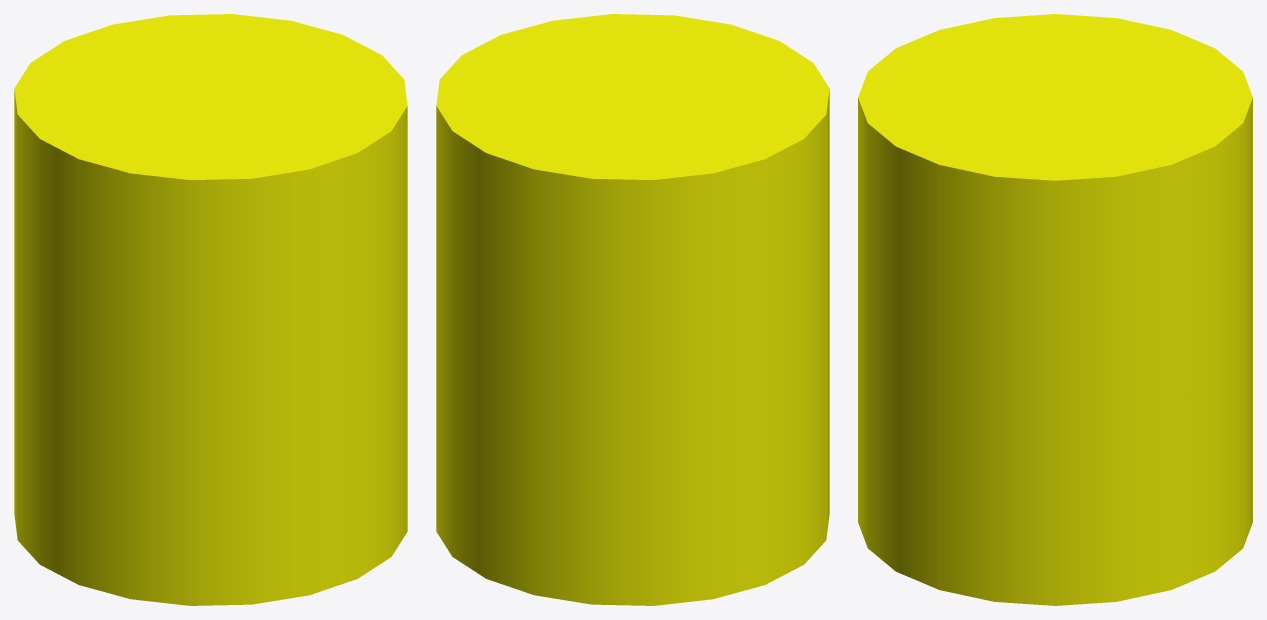
Rendered from Wood2.obj.
3 views of the same model, side by side, from view 1: azimuth 30°, elevation 25°; view 2: azimuth 150°, elevation 25°; view 3: azimuth 270°, elevation 25° (orthographic).
Parts seen in each view (by area): view 1: Wood2; view 2: Wood2; view 3: Wood2.
Part boxes in pixels (x1,y1,x2,y2): Wood2: (14,14,407,605); Wood2: (436,14,829,605); Wood2: (858,14,1252,605).
Size of the model in its own units: 2.27 by 2.7 by 2.27.
